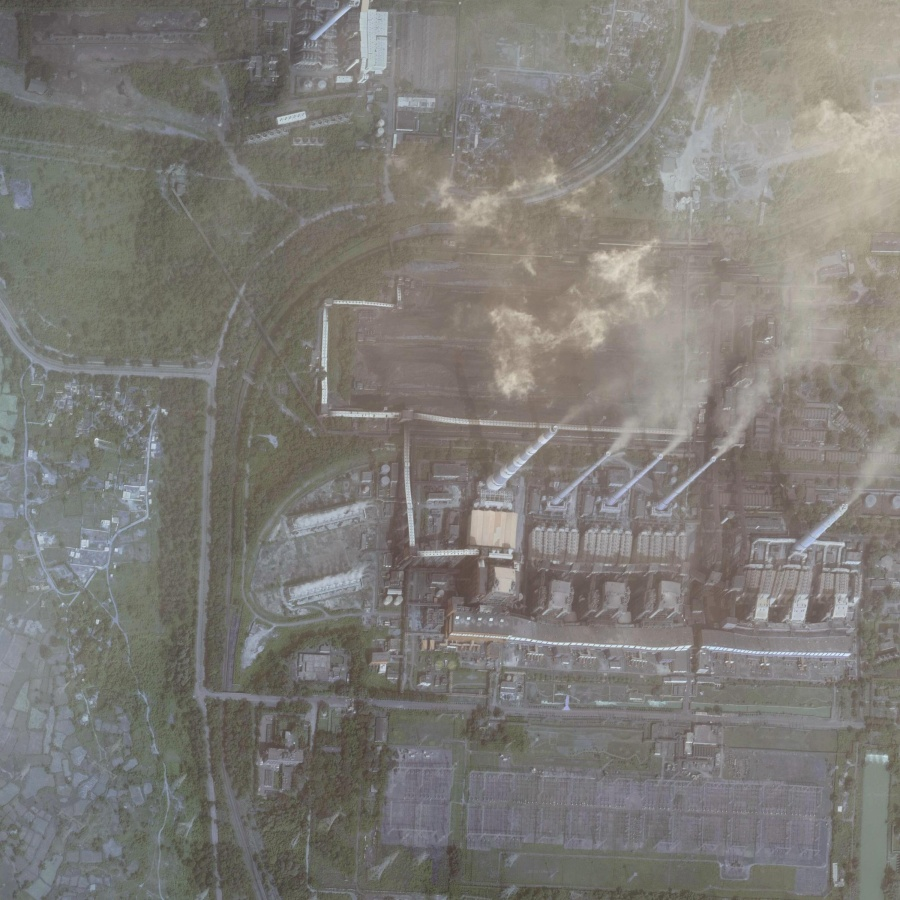PowerPlant: (326, 192, 887, 668)
